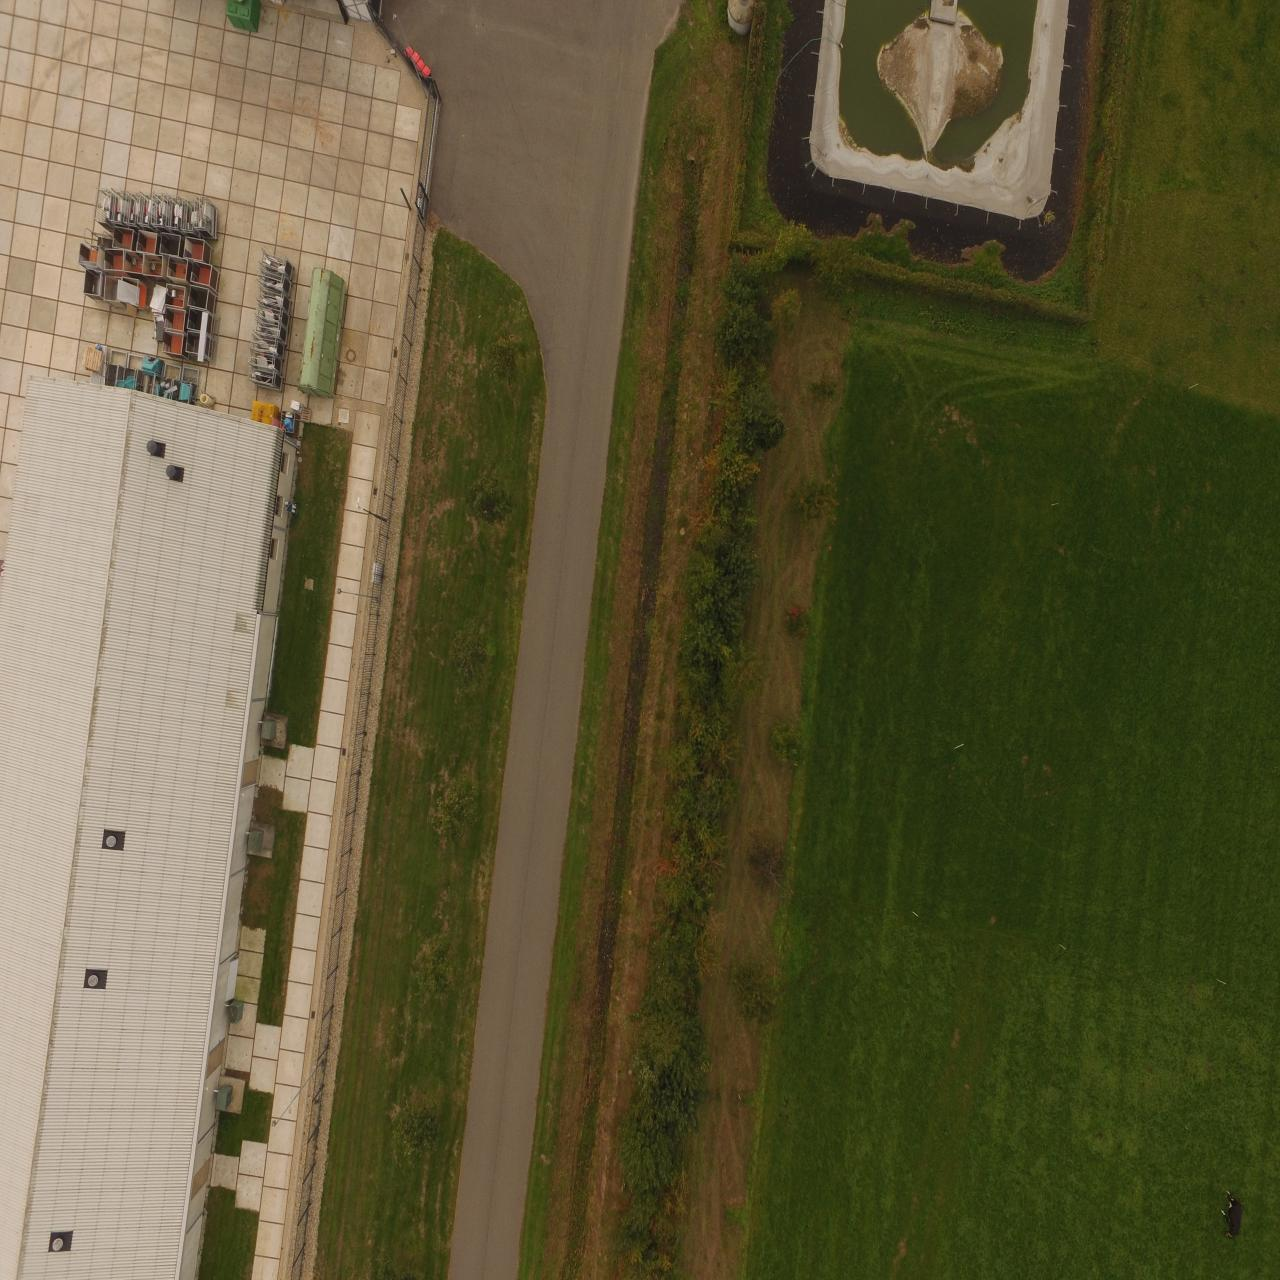cow: (1223, 1187, 1246, 1244)
